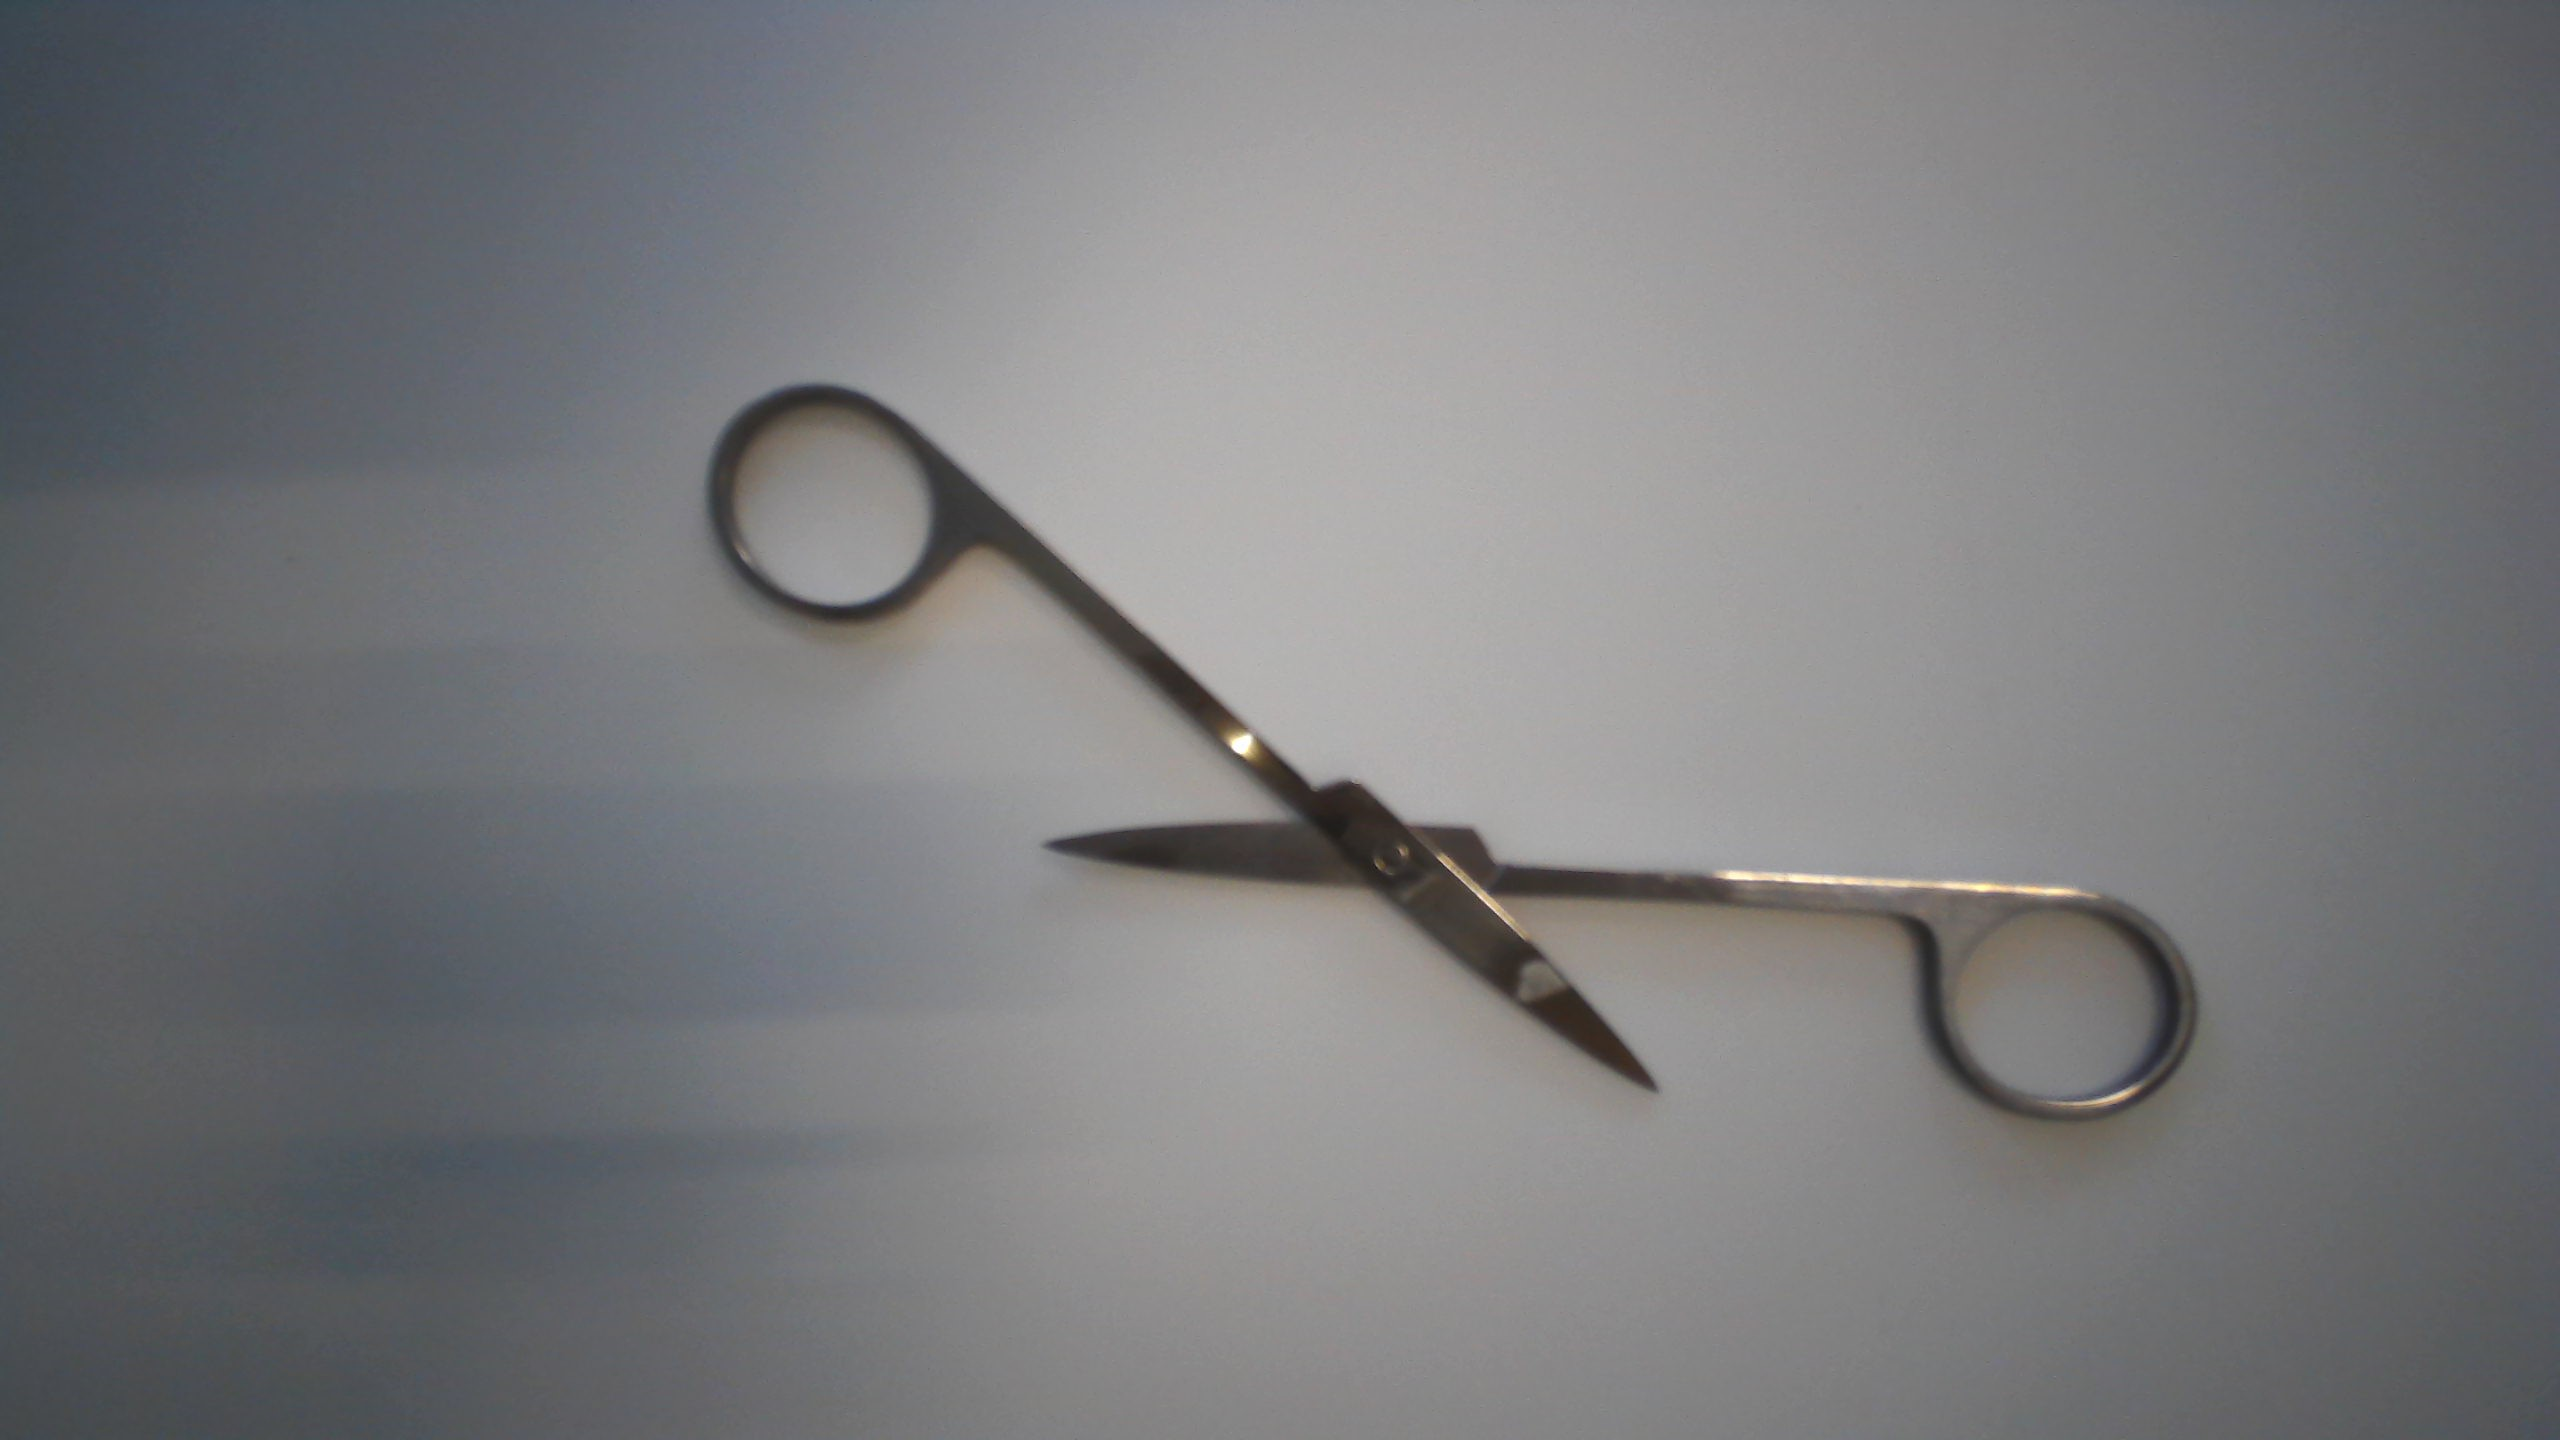Tissues: (1514, 946, 1567, 1002)
